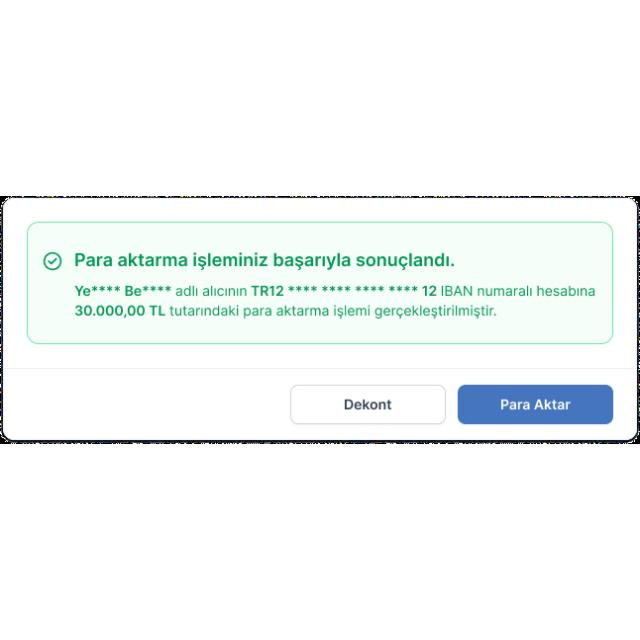QLabel: (72, 282, 598, 302), (72, 251, 456, 273), (72, 303, 498, 321), (496, 395, 574, 415), (338, 395, 396, 417)
VBtn: (289, 384, 447, 426), (458, 384, 614, 426)
VCard: (1, 196, 640, 444), (28, 221, 614, 347)
VDivider: (4, 366, 636, 374)
VIcon: (38, 248, 66, 274)
